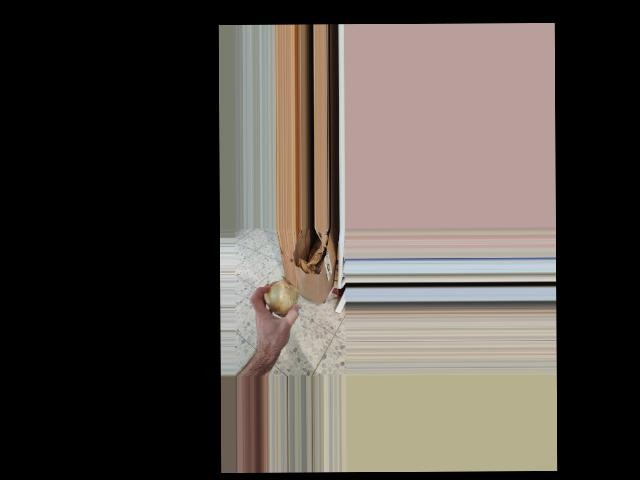onion: (263, 277, 299, 319)
